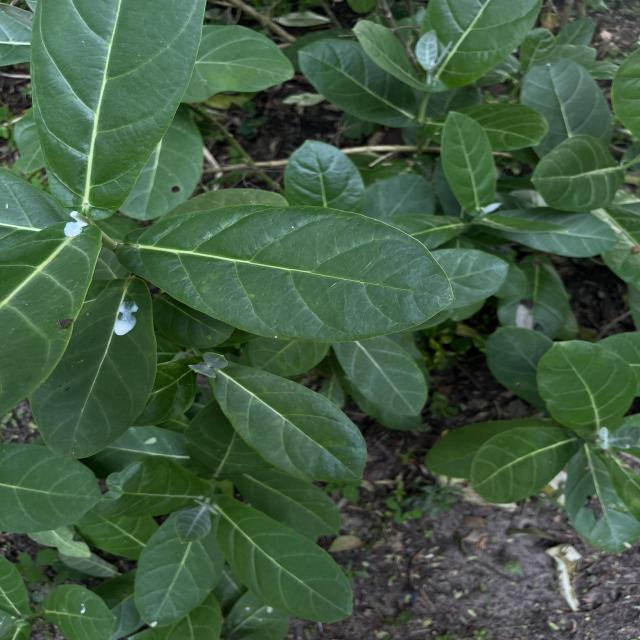Calotropis gigantea: (114, 203, 458, 345), (23, 0, 207, 212), (28, 276, 158, 460), (208, 361, 368, 484), (208, 497, 354, 625), (132, 508, 224, 629), (294, 44, 426, 128), (534, 340, 637, 440), (470, 424, 580, 505), (529, 132, 626, 216), (334, 341, 429, 418), (438, 110, 499, 212)
